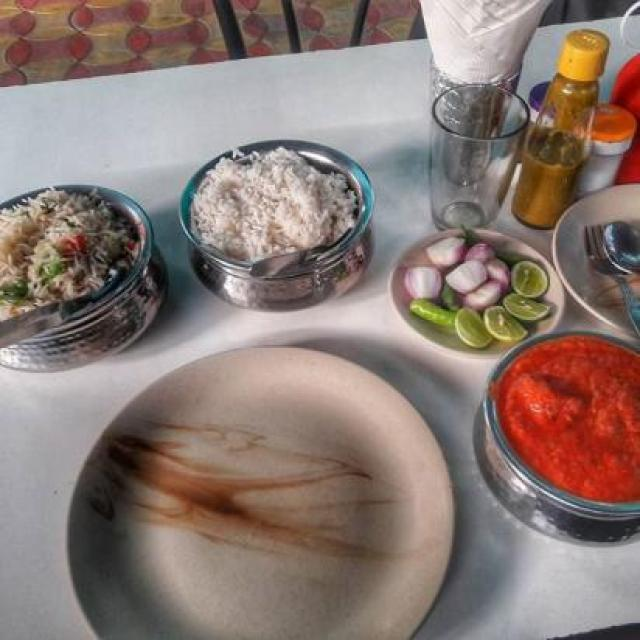Rice: (190, 142, 354, 271)
